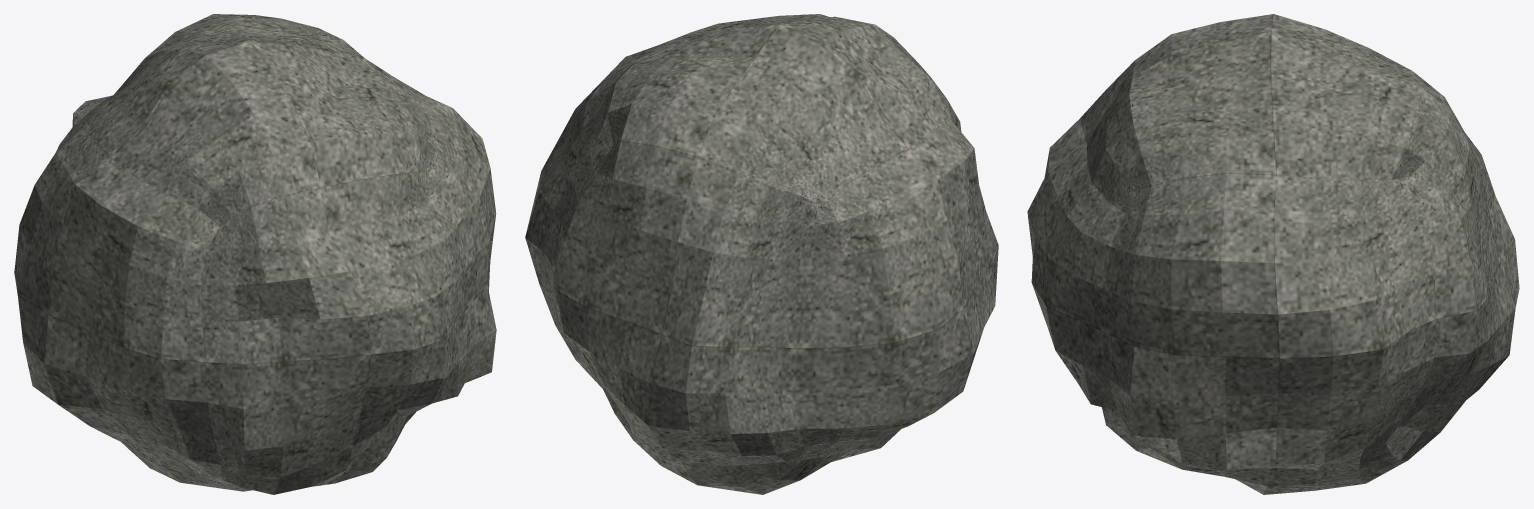
Rendered from SM_EC_Rock_26.fbx.
The picture shows the model from 3 angles, left to right: view 1: azimuth 30°, elevation 25°; view 2: azimuth 150°, elevation 25°; view 3: azimuth 270°, elevation 25°; orthographic projection.
Parts seen in each view (by area): view 1: SM_EC_Rock_26; view 2: SM_EC_Rock_26; view 3: SM_EC_Rock_26.
Boxes of the visible parts, box(x1,y1,x2,y2) form: SM_EC_Rock_26: box(14, 14, 496, 494); SM_EC_Rock_26: box(525, 14, 998, 494); SM_EC_Rock_26: box(1027, 14, 1519, 494).
Size of the model in its own units: 2.05 by 2.09 by 2.07.
